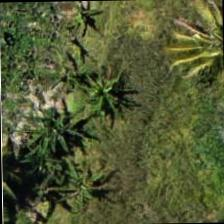Kelapa_Sawit: (173, 0, 223, 83)
